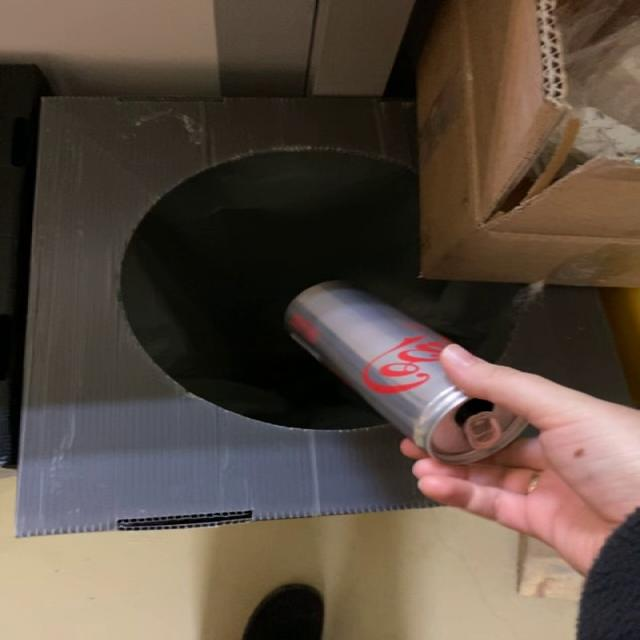metal: (285, 282, 528, 465)
